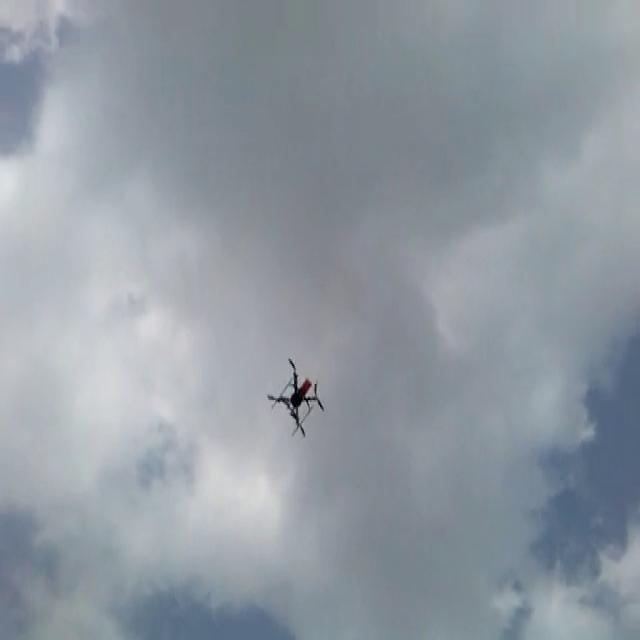drone: (266, 352, 328, 439)
